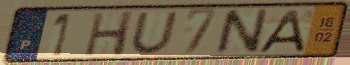1: (50, 12, 73, 58)
7: (178, 6, 220, 58)
A: (255, 8, 307, 54)
H: (82, 10, 137, 58)
N: (213, 7, 272, 56)
U: (128, 10, 181, 56)
